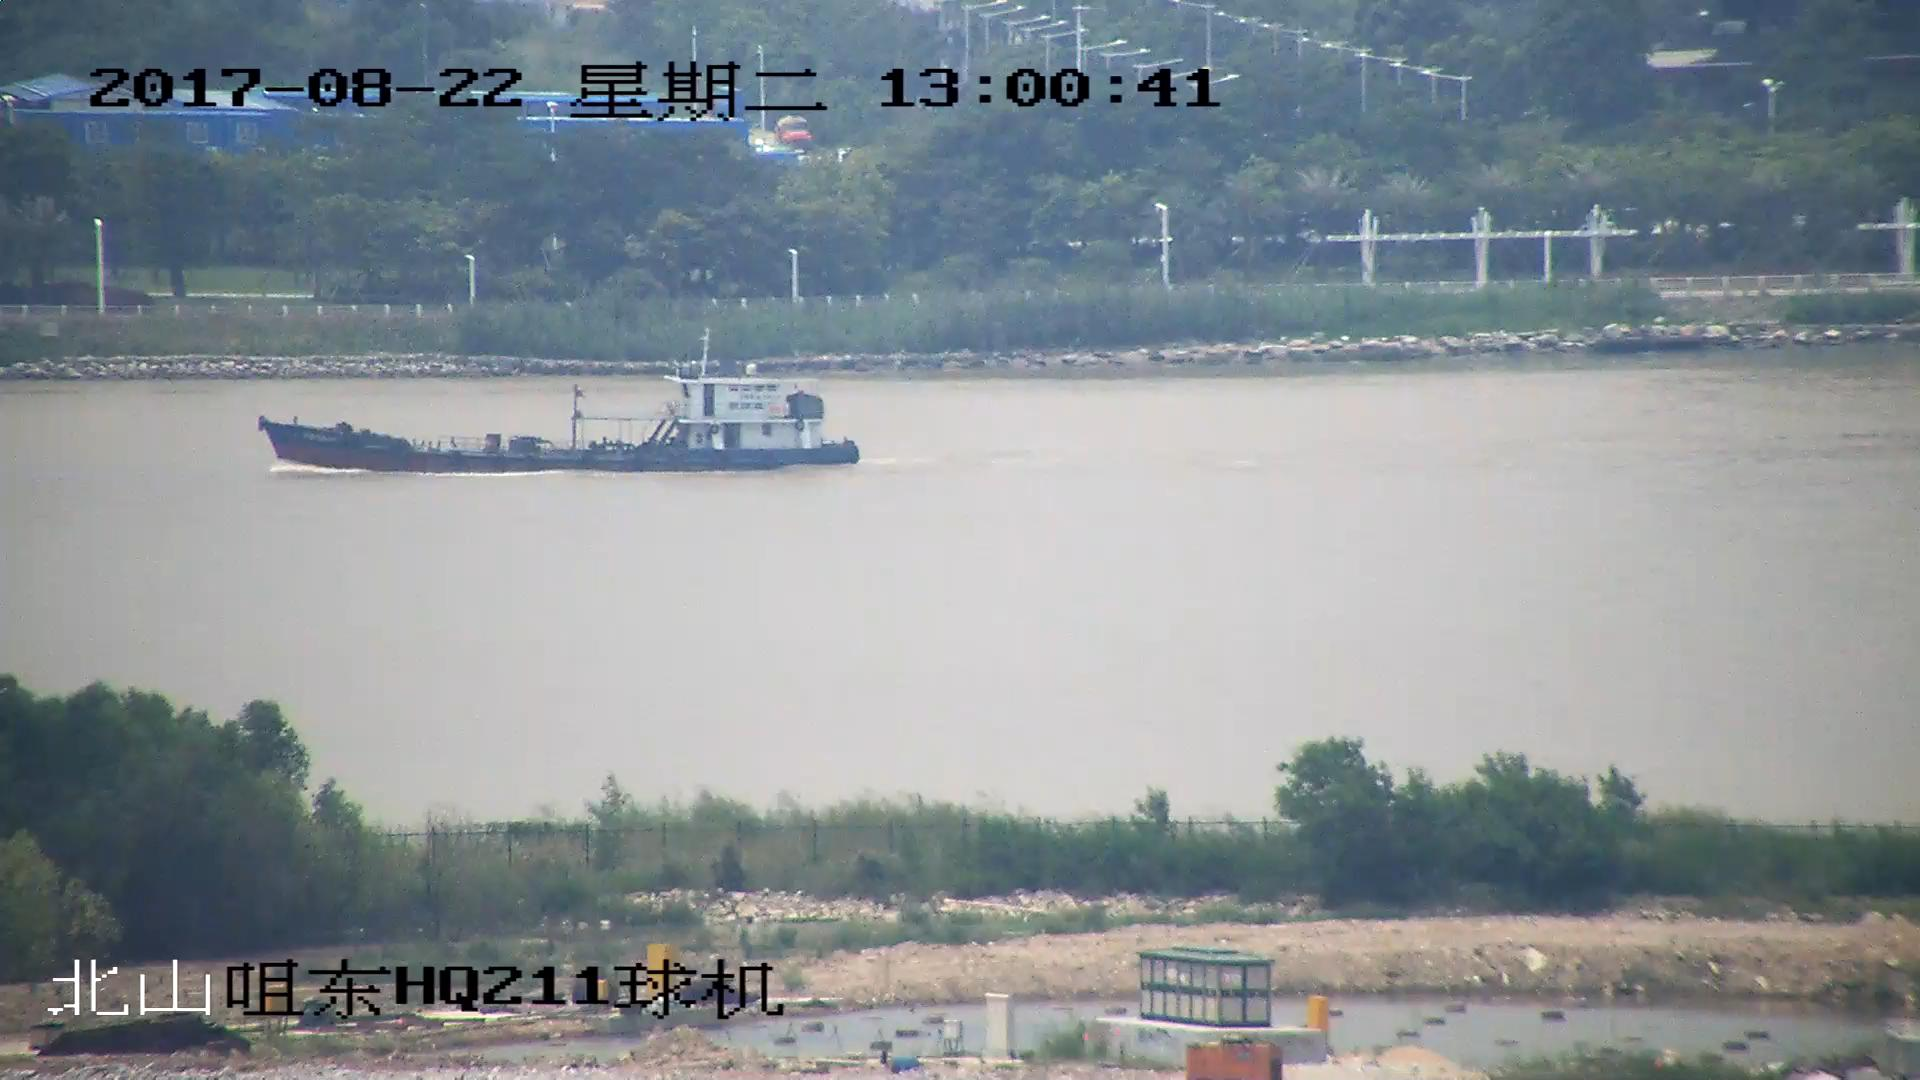fishing boat: (266, 336, 861, 474)
